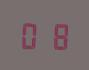eight: (44, 19, 68, 50)
zero: (19, 19, 43, 49)
